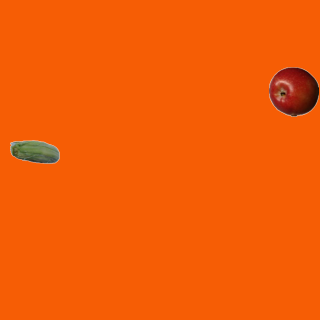Apple Braeburn: (268, 66, 318, 116)
Corn Husk: (9, 128, 59, 178)
